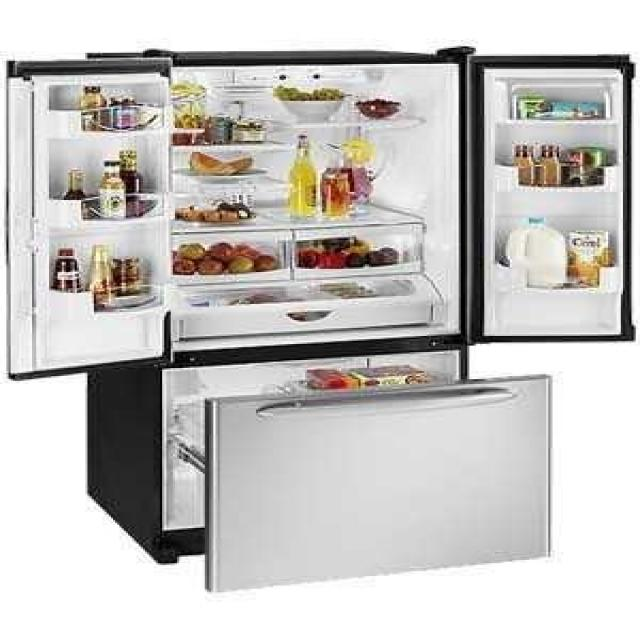refrigerator: (140, 55, 494, 559)
